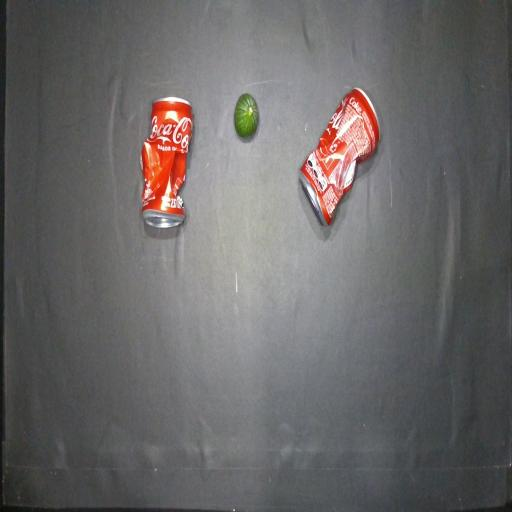higo: (234, 93, 259, 138)
lata_defectuoso: (299, 88, 380, 226), (141, 97, 193, 227)
